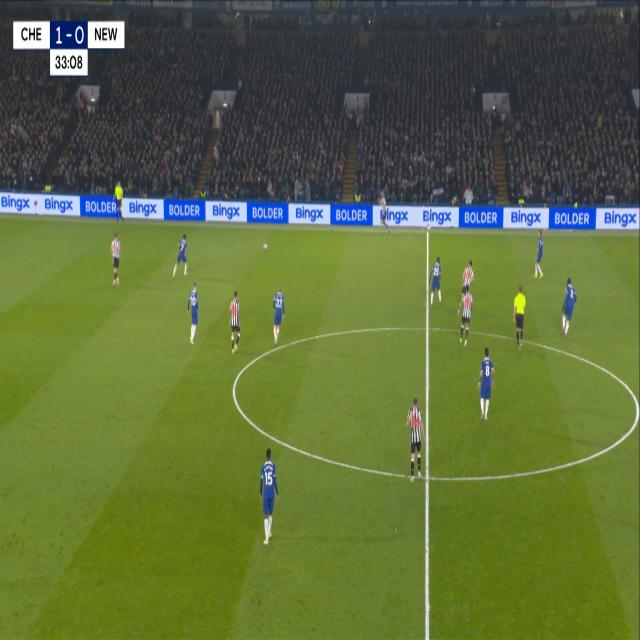Ball: (262, 241, 268, 251)
Chelsea: (256, 442, 282, 548), (476, 343, 496, 424), (558, 272, 579, 341), (425, 246, 445, 310), (184, 278, 202, 348), (269, 280, 287, 348), (170, 227, 188, 281), (530, 225, 546, 285)
New castle: (404, 392, 427, 487), (228, 284, 242, 354), (376, 186, 392, 238), (108, 227, 121, 290), (461, 286, 475, 343), (464, 255, 474, 286)
Refree: (512, 282, 529, 348)
